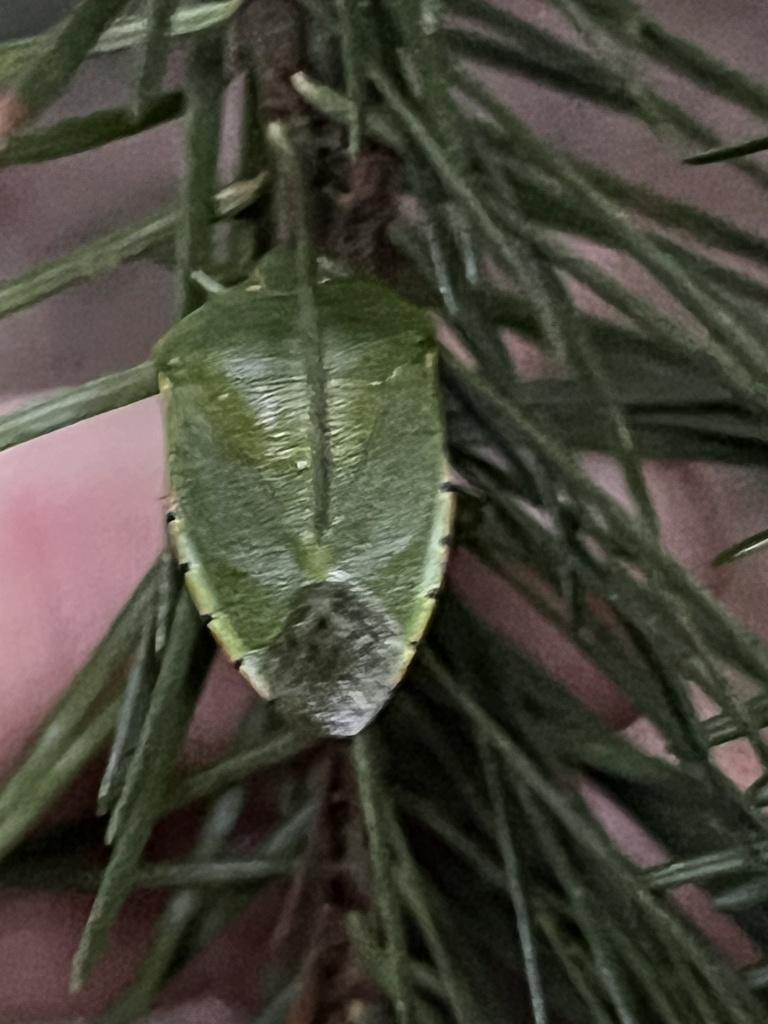stink_bugs: (81, 171, 591, 789)
